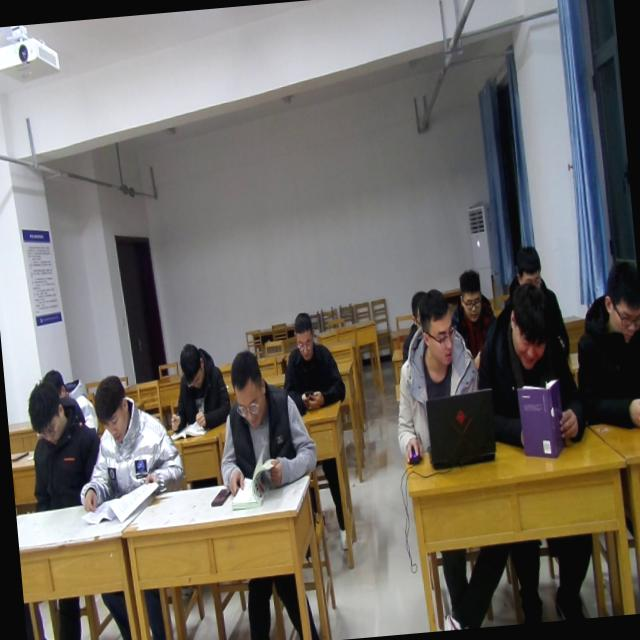down: (499, 282, 556, 378), (224, 340, 272, 433), (595, 249, 640, 348), (414, 284, 461, 368), (89, 371, 134, 445), (23, 375, 66, 448), (454, 262, 487, 325), (172, 337, 208, 391), (509, 240, 544, 292), (288, 304, 318, 363), (38, 358, 68, 404)
sit: (468, 286, 586, 454), (384, 282, 486, 468), (208, 341, 320, 499), (68, 368, 188, 514), (566, 258, 640, 436), (21, 372, 102, 513), (506, 241, 574, 368), (276, 304, 348, 414), (162, 336, 232, 434), (447, 264, 502, 372)
